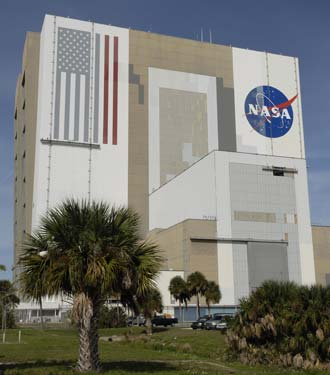NASA: (241, 80, 301, 138)
